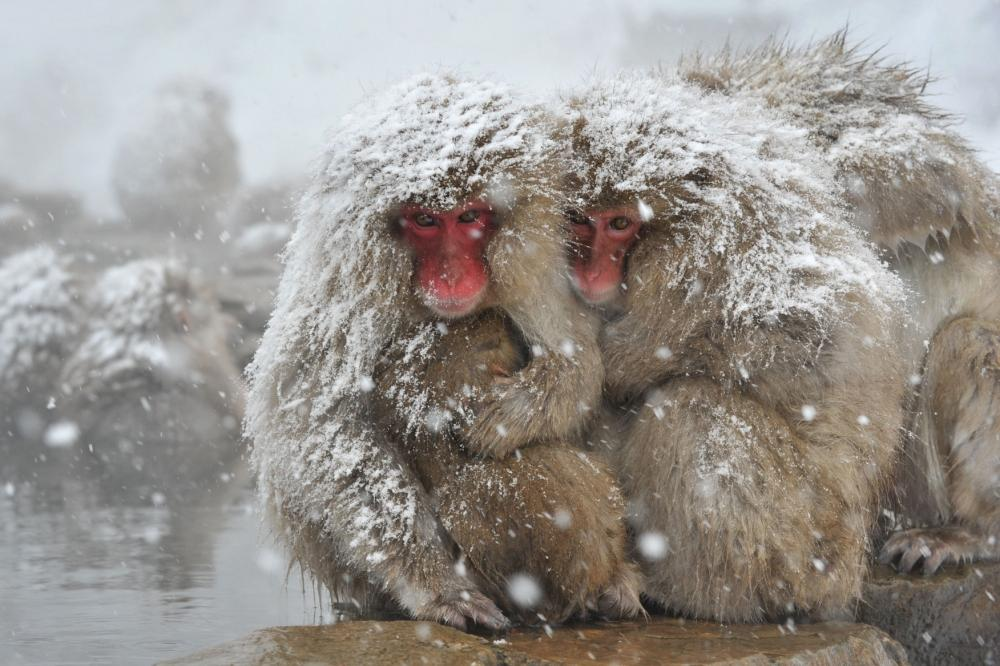monkey: (252, 33, 1000, 637)
